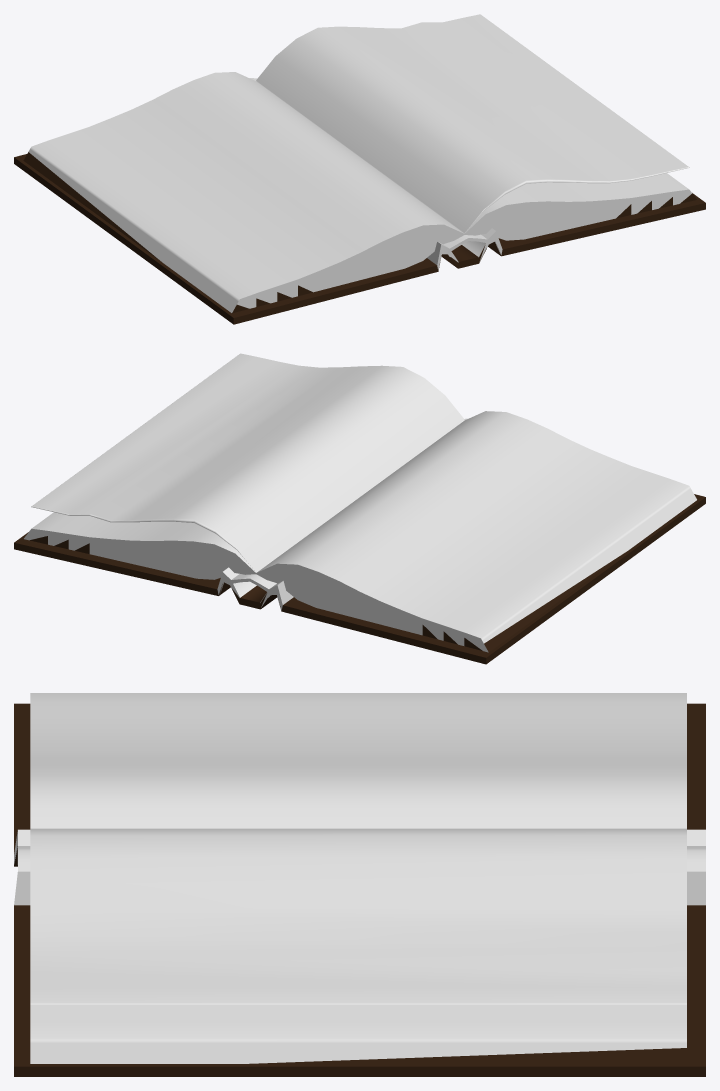
The model's file is libro.glb.
The picture shows the model from 3 angles, top to bottom: view 1: azimuth 30°, elevation 25°; view 2: azimuth 150°, elevation 25°; view 3: azimuth 270°, elevation 25°; orthographic projection. The views are drawn at different scales.
Visible parts, largest first — view 1: Object_2; view 2: Object_2; view 3: Object_2.
Boxes of the visible parts, x1,y1,x2,y2 form: Object_2: (14, 14, 705, 324); Object_2: (14, 353, 705, 664); Object_2: (14, 693, 705, 1076).
Bounding box in the file's own units: 0.2018 × 0.0285 × 0.1627.
